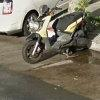Motorcycle: (17, 7, 99, 64)
